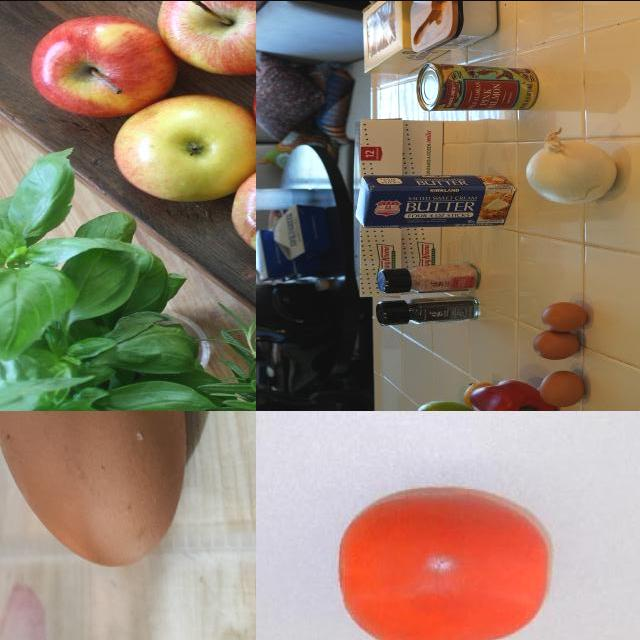bell_pepper: (472, 382, 555, 411)
egg: (1, 411, 194, 574), (543, 371, 587, 407), (532, 330, 583, 358), (539, 303, 591, 330)
onion: (522, 136, 617, 204)
tomato: (324, 473, 570, 640)
